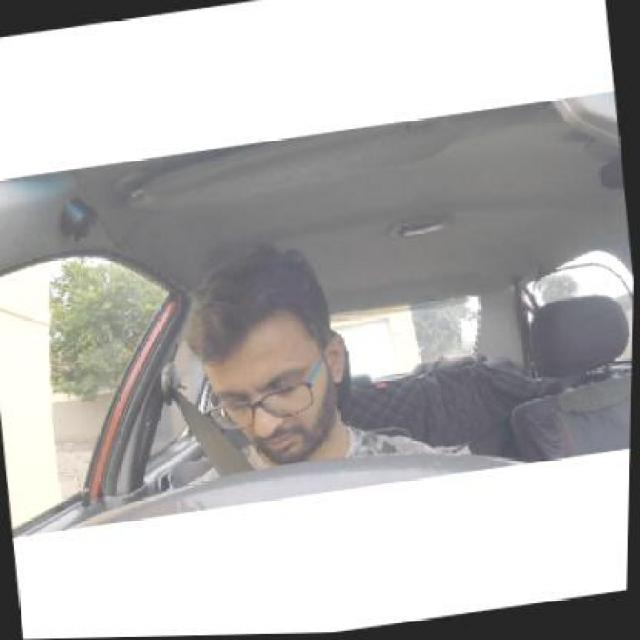drowsy: (167, 244, 396, 462)
